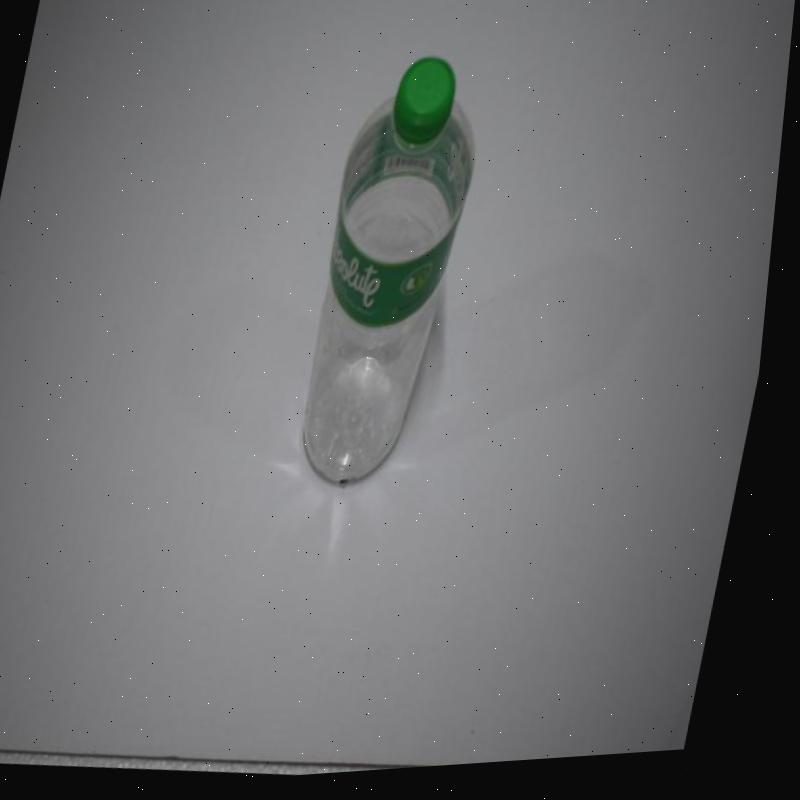botella: (292, 52, 496, 502)
